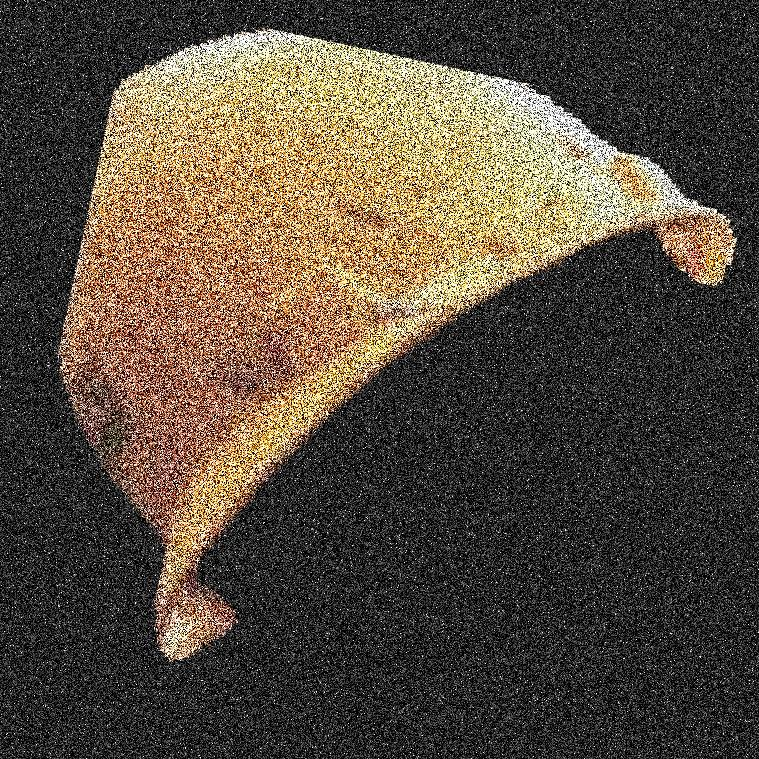Capacete: (174, 0, 369, 758)
